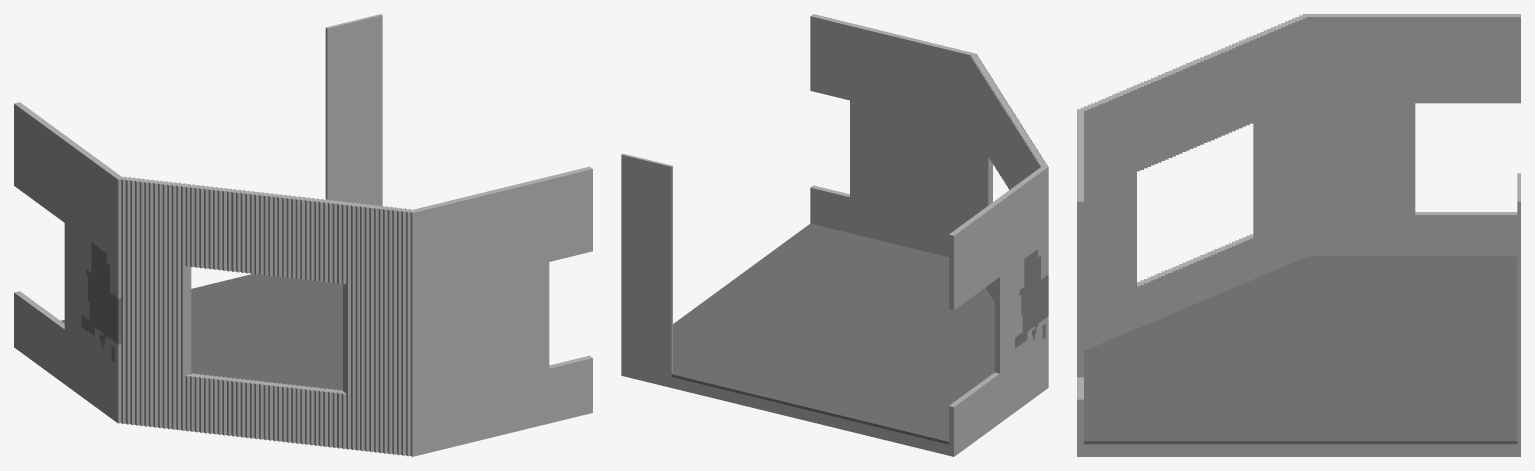
File: 4x2 second-1.obj
3 renders of one model, left to right at view 1: azimuth 30°, elevation 25°; view 2: azimuth 150°, elevation 25°; view 3: azimuth 270°, elevation 25°, orthographic. The views are drawn at different scales.
Parts seen in each view (by area): view 1: 4x2 second-1; view 2: 4x2 second-1; view 3: 4x2 second-1.
Boxes of the visible parts, x1,y1,x2,y2 form: 4x2 second-1: [14, 14, 592, 456]; 4x2 second-1: [621, 14, 1048, 456]; 4x2 second-1: [1077, 14, 1520, 456].
Size of the model in its own units: 126 by 80 by 126.
Materials: 1 (1 with a texture image).
